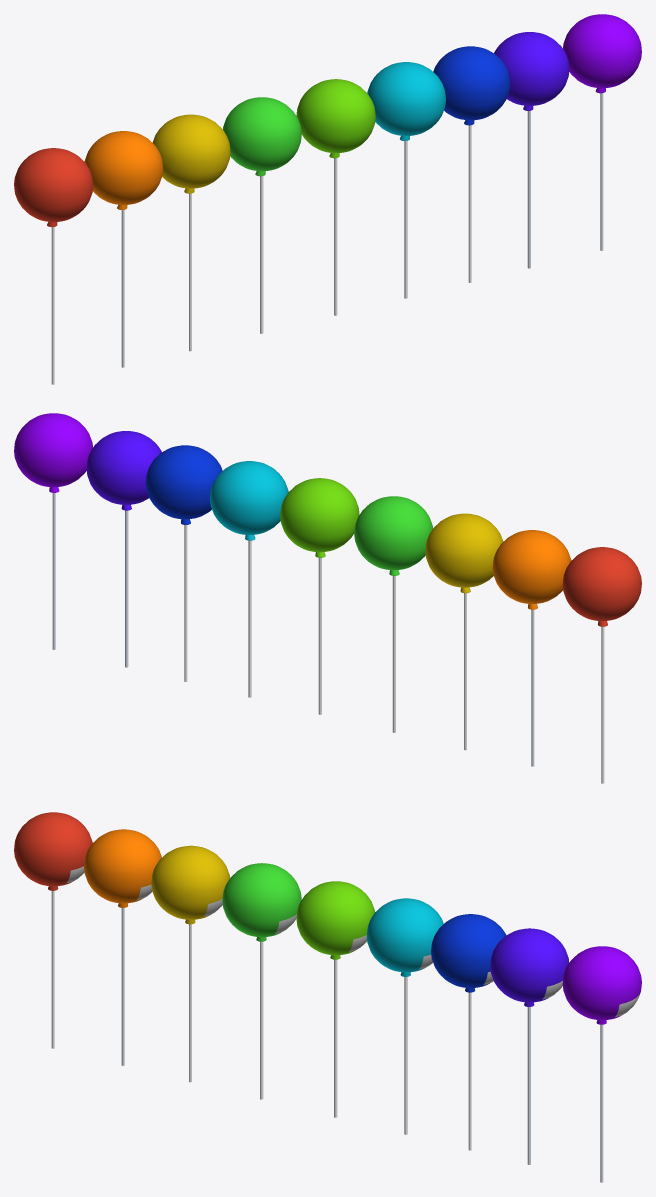
Rendered from party_balloons.fbx.
3 renders of one model, top to bottom at view 1: azimuth 30°, elevation 25°; view 2: azimuth 150°, elevation 25°; view 3: azimuth 330°, elevation 25°, orthographic.
Visible parts, largest first — view 1: Cylinder, Cylinder.005, Cylinder.008, Cylinder.004, Cylinder.003, Cylinder.006, Cylinder.002, Cylinder.001, Cylinder.007; view 2: Cylinder, Cylinder.005, Cylinder.008, Cylinder.004, Cylinder.003, Cylinder.006, Cylinder.002, Cylinder.001, Cylinder.007; view 3: Cylinder.008, Cylinder.004, Cylinder.007, Cylinder.005, Cylinder, Cylinder.006, Cylinder.001, Cylinder.003, Cylinder.002.
Boxes of the visible parts, <box> form: Cylinder: <box>14,148,93,384</box>; Cylinder.005: <box>296,79,375,315</box>; Cylinder.008: <box>563,14,641,250</box>; Cylinder.004: <box>223,97,301,333</box>; Cylinder.003: <box>367,62,445,298</box>; Cylinder.006: <box>84,131,163,367</box>; Cylinder.002: <box>433,46,510,282</box>; Cylinder.001: <box>152,114,230,351</box>; Cylinder.007: <box>494,32,569,268</box>; Cylinder: <box>562,547,641,783</box>; Cylinder.005: <box>280,478,359,714</box>; Cylinder.008: <box>14,413,92,649</box>; Cylinder.004: <box>354,496,432,732</box>; Cylinder.003: <box>210,461,288,697</box>; Cylinder.006: <box>492,530,571,766</box>; Cylinder.002: <box>145,445,222,681</box>; Cylinder.001: <box>425,513,503,750</box>; Cylinder.007: <box>86,431,161,667</box>; Cylinder.008: <box>562,946,641,1182</box>; Cylinder.004: <box>222,863,301,1099</box>; Cylinder.007: <box>490,928,569,1164</box>; Cylinder.005: <box>296,881,374,1117</box>; Cylinder: <box>14,812,92,1048</box>; Cylinder.006: <box>84,829,161,1065</box>; Cylinder.001: <box>151,845,229,1082</box>; Cylinder.003: <box>366,898,443,1134</box>; Cylinder.002: <box>431,914,506,1150</box>.
Size of the model in its own units: 1659 by 596 by 185.
